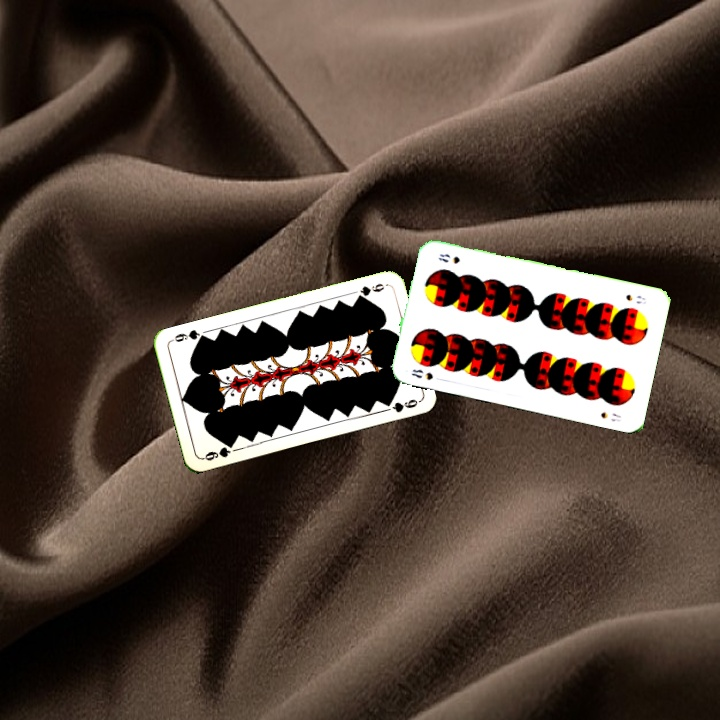G9: (199, 439, 237, 463), (353, 279, 387, 301)
S8: (408, 365, 436, 383), (622, 290, 649, 307)
